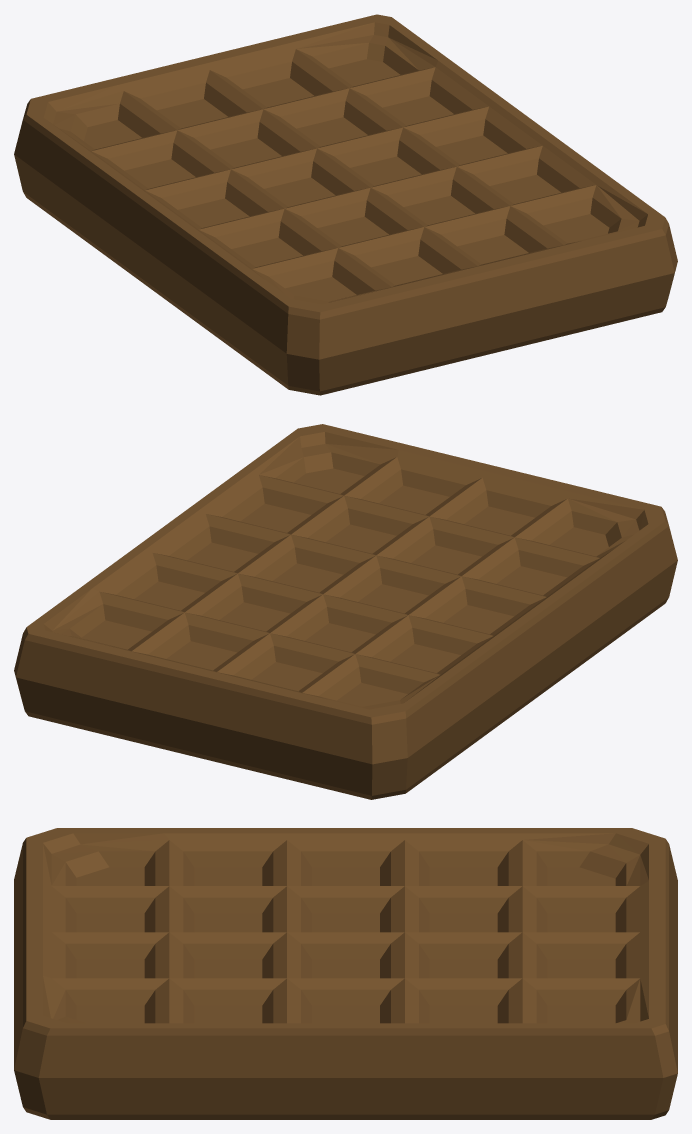
The model's file is waffle.glb.
3 views of the same model, one above another, from view 1: azimuth 30°, elevation 25°; view 2: azimuth 150°, elevation 25°; view 3: azimuth 270°, elevation 25° (orthographic). The views are drawn at different scales.
Visible parts, largest first — view 1: Waffle; view 2: Waffle; view 3: Waffle.
Part boxes in pixels (bbox=[...]): Waffle: bbox=[14, 14, 677, 395]; Waffle: bbox=[14, 424, 677, 799]; Waffle: bbox=[14, 828, 677, 1119].
Bounding box in the file's own units: 113 × 23.22 × 153.
